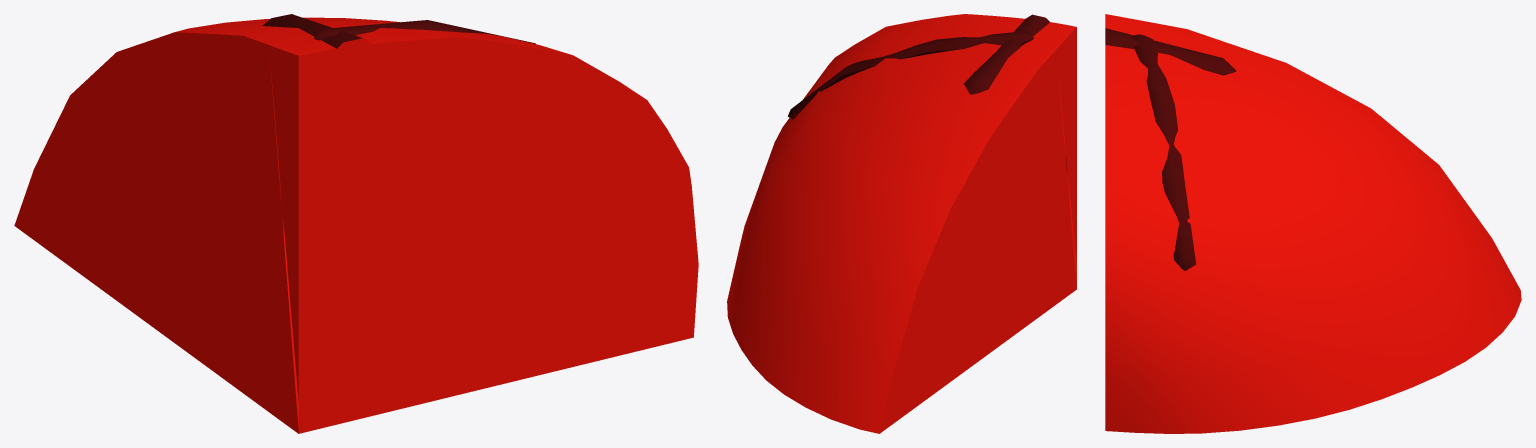
Rendered from shot_punch_b157.glb.
3 views of the same model, side by side, from view 1: azimuth 30°, elevation 25°; view 2: azimuth 150°, elevation 25°; view 3: azimuth 270°, elevation 25° (orthographic). The views are drawn at different scales.
Parts seen in each view (by area): view 1: pu_mitt_b157, pu_crease_b157, pu_finger_b157; view 2: pu_mitt_b157, pu_finger_b157, pu_crease_b157; view 3: pu_mitt_b157, pu_finger_b157, pu_crease_b157.
Part boxes in pixels (left/top/right/bottom): pu_mitt_b157: left=14, top=17, right=698, bottom=433; pu_crease_b157: left=263, top=14, right=371, bottom=58; pu_finger_b157: left=313, top=20, right=535, bottom=43; pu_mitt_b157: left=727, top=14, right=1076, bottom=433; pu_finger_b157: left=788, top=31, right=1033, bottom=119; pu_crease_b157: left=964, top=14, right=1049, bottom=94; pu_mitt_b157: left=1105, top=14, right=1521, bottom=433; pu_finger_b157: left=1131, top=34, right=1196, bottom=270; pu_crease_b157: left=1105, top=28, right=1236, bottom=75.
Size of the model in its own units: 5.76 by 5.2 by 7.05.
